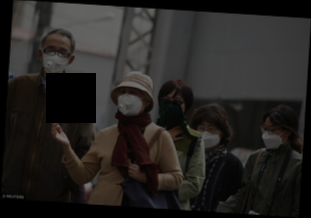with_mask: (39, 43, 70, 76), (117, 87, 146, 116), (194, 120, 221, 149), (157, 94, 186, 121), (259, 122, 287, 149)
